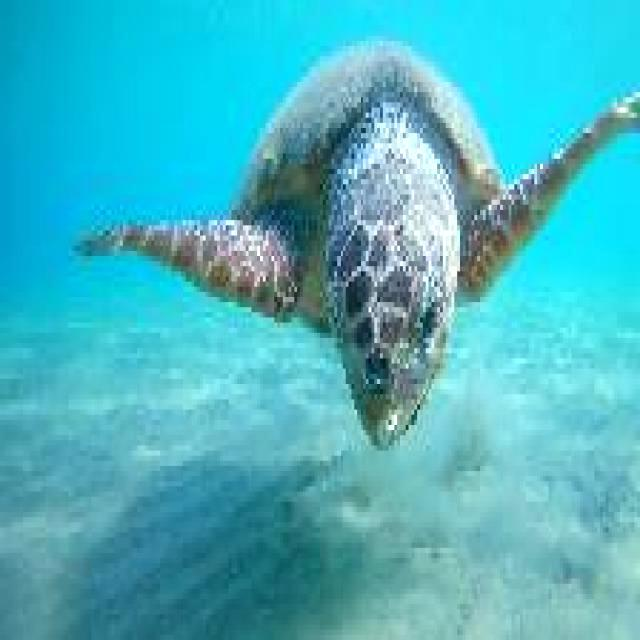Sea turtle: (74, 28, 640, 434)
